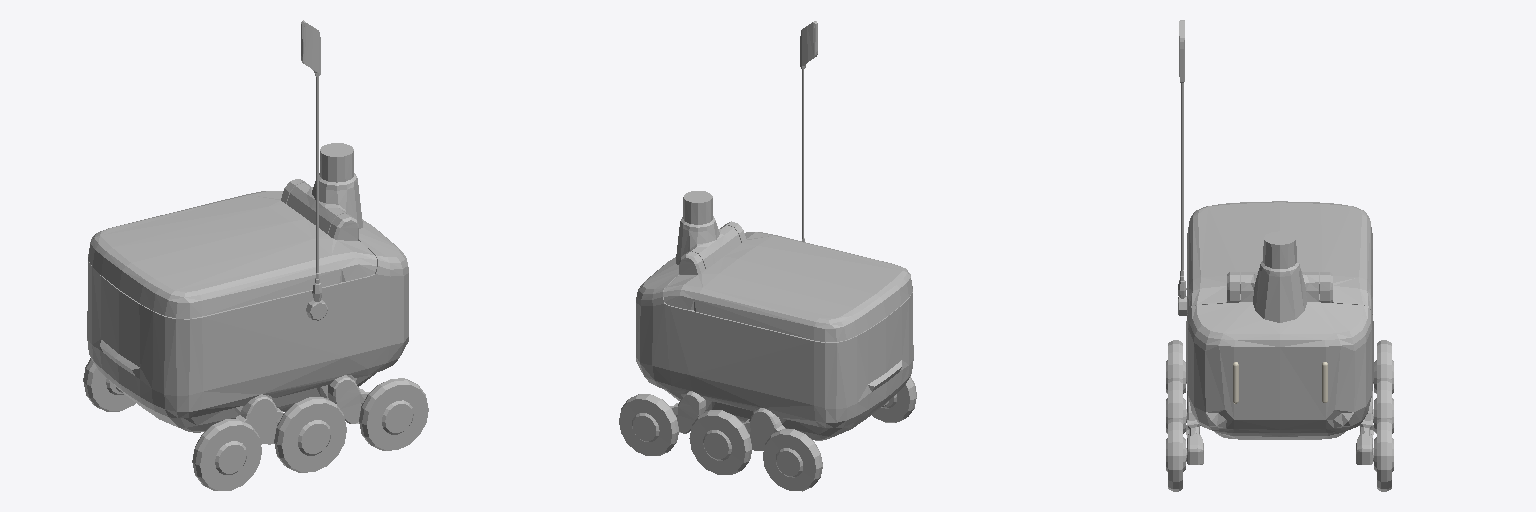
The robot description file, URDF, robot "yandex_rover":
<?xml version='1.0' encoding='utf-8'?>
<robot name="yandex_rover">
  <material name="neutral_fallback">
    <color rgba="0.75 0.75 0.75 1" />
  </material>
  <link name="base_link">
    <inertial>
      <origin xyz="-0.006326344 -0.002392415 0.0559519" rpy="0 0 0" />
      <mass value=".41" />
      <inertia ixx="0.0009546777" iyy="0.0014699204" izz="0.0013856149" ixy="0" ixz="0" iyz="0" />
    </inertial>
    <visual name="body_visual">
      <origin xyz="0 0 0" rpy="0 0 0" />
      <geometry>
        <mesh filename="meshes/body.obj" scale="1 1 1" />
      </geometry>
      <material name="neutral_fallback" />
    </visual>
    <visual name="interior_visual">
      <origin xyz="0 0 0" rpy="0 0 0" />
      <geometry>
        <mesh filename="meshes/interior.obj" scale="1 1 1" />
      </geometry>
      <material name="neutral_fallback" />
    </visual>
    <visual name="headlight_white_right_center">
      <origin xyz="0.0768940525092798 -0.025446381695348033 0.056890452944578944" rpy="0 0.016609985980125672 0.0070039801895009236" />
      <geometry>
        <cylinder radius=".0018" length="0.022847618706327667" />
      </geometry>
      <material name="headlight_milk" />
    </visual>
    <visual name="headlight_white_right_end0">
      <origin xyz="0.07670431657491844 -0.02544771062380413 0.0454682194219007" rpy="0 0 0" />
      <geometry>
        <sphere radius=".0018" />
      </geometry>
      <material name="headlight_milk" />
    </visual>
    <visual name="headlight_white_right_end1">
      <origin xyz="0.07708378844364118 -0.025445052766891935 0.06831268646725719" rpy="0 0 0" />
      <geometry>
        <sphere radius=".0018" />
      </geometry>
      <material name="headlight_milk" />
    </visual>
    <visual name="headlight_white_left_center">
      <origin xyz="0.07689631953634421 0.025893323399847845 0.057076308538218115" rpy="0 0.016609986379527993 -0.007006700595220675" />
      <geometry>
        <cylinder radius=".0018" length="0.022847651351705228" />
      </geometry>
      <material name="headlight_milk" />
    </visual>
    <visual name="headlight_white_left_end0">
      <origin xyz="0.0767065833299363 0.025894652846394174 0.04565405869517847" rpy="0 0 0" />
      <geometry>
        <sphere radius=".0018" />
      </geometry>
      <material name="headlight_milk" />
    </visual>
    <visual name="headlight_white_left_end1">
      <origin xyz="0.07708605574275212 0.025891993953301516 0.06849855838125776" rpy="0 0 0" />
      <geometry>
        <sphere radius=".0018" />
      </geometry>
      <material name="headlight_milk" />
    </visual>
    <collision name="body_collision">
      <origin xyz="-0.006326344 -0.002392415 0.0559519" rpy="0 0 0" />
      <geometry>
        <box size="0.166785568 0.112858996 0.123307064" />
      </geometry>
    </collision>
  </link>
  <material name="headlight_milk">
    <color rgba="0.88 0.86 0.80 1" />
  </material>
  <link name="left_front_wheel">
    <inertial>
      <origin xyz="0 0 0" rpy="0 0 0" />
      <mass value="0.015" />
      <inertia ixx="2.003658024752769e-06" iyy="3.34667532e-06" izz="2.003658024752769e-06" ixy="0" ixz="0" iyz="0" />
    </inertial>
    <visual name="left_front_visual">
      <origin xyz="0 0 0" rpy="0 0 0" />
      <geometry>
        <mesh filename="meshes/left_front.obj" scale="1.0 1 1.0" />
      </geometry>
      <material name="neutral_fallback" />
    </visual>
    <collision name="left_front_collision">
      <origin xyz="0 0 0" rpy="1.5707963267948966 0 0" />
      <geometry>
        <cylinder radius="0.021124" length="0.01625596173107624" />
      </geometry>
    </collision>
  </link>
  <joint name="left_front_joint" type="continuous">
    <parent link="base_link" />
    <child link="left_front_wheel" />
    <origin xyz="0.05293417 0.05767793 0.0" rpy="0 0 0" />
    <axis xyz="0 1 0" />
    <limit effort="0" velocity="25" />
    <dynamics damping="0.000002" friction="0" />
  </joint>
  <link name="left_middle_wheel">
    <inertial>
      <origin xyz="0 0 0" rpy="0 0 0" />
      <mass value="0.015" />
      <inertia ixx="2.165838024752769e-06" iyy="3.67103532e-06" izz="2.165838024752769e-06" ixy="0" ixz="0" iyz="0" />
    </inertial>
    <visual name="left_middle_visual">
      <origin xyz="0 0 0" rpy="0 0 0" />
      <geometry>
        <mesh filename="meshes/left_middle.obj" scale="1.0473395190304866 1 1.0473395190304866" />
      </geometry>
      <material name="neutral_fallback" />
    </visual>
    <collision name="left_middle_collision">
      <origin xyz="0 0 0" rpy="1.5707963267948966 0 0" />
      <geometry>
        <cylinder radius="0.022124" length="0.01625596173107624" />
      </geometry>
    </collision>
  </link>
  <joint name="left_middle_joint" type="continuous">
    <parent link="base_link" />
    <child link="left_middle_wheel" />
    <origin xyz="0.0 0.05767793 0.0" rpy="0 0 0" />
    <axis xyz="0 1 0" />
    <limit effort="0.03" velocity="25" />
    <dynamics damping="0.000002" friction="0" />
  </joint>
  <link name="left_rear_wheel">
    <inertial>
      <origin xyz="0 0 0" rpy="0 0 0" />
      <mass value="0.015" />
      <inertia ixx="2.003658024752769e-06" iyy="3.34667532e-06" izz="2.003658024752769e-06" ixy="0" ixz="0" iyz="0" />
    </inertial>
    <visual name="left_rear_visual">
      <origin xyz="0 0 0" rpy="0 0 0" />
      <geometry>
        <mesh filename="meshes/left_rear.obj" scale="1.0 1 1.0" />
      </geometry>
      <material name="neutral_fallback" />
    </visual>
    <collision name="left_rear_collision">
      <origin xyz="0 0 0" rpy="1.5707963267948966 0 0" />
      <geometry>
        <cylinder radius="0.021124" length="0.01625596173107624" />
      </geometry>
    </collision>
  </link>
  <joint name="left_rear_joint" type="continuous">
    <parent link="base_link" />
    <child link="left_rear_wheel" />
    <origin xyz="-0.052975506 0.05767793 0.0" rpy="0 0 0" />
    <axis xyz="0 1 0" />
    <limit effort="0" velocity="25" />
    <dynamics damping="0.000002" friction="0" />
  </joint>
  <link name="right_front_wheel">
    <inertial>
      <origin xyz="0 0 0" rpy="0 0 0" />
      <mass value="0.015" />
      <inertia ixx="2.003658024752769e-06" iyy="3.34667532e-06" izz="2.003658024752769e-06" ixy="0" ixz="0" iyz="0" />
    </inertial>
    <visual name="right_front_visual">
      <origin xyz="0 0 0" rpy="0 0 0" />
      <geometry>
        <mesh filename="meshes/right_front.obj" scale="1.0 1 1.0" />
      </geometry>
      <material name="neutral_fallback" />
    </visual>
    <collision name="right_front_collision">
      <origin xyz="0 0 0" rpy="1.5707963267948966 0 0" />
      <geometry>
        <cylinder radius="0.021124" length="0.01625596173107624" />
      </geometry>
    </collision>
  </link>
  <joint name="right_front_joint" type="continuous">
    <parent link="base_link" />
    <child link="right_front_wheel" />
    <origin xyz="0.05293417 -0.05767793 0.0" rpy="0 0 0" />
    <axis xyz="0 1 0" />
    <limit effort="0" velocity="25" />
    <dynamics damping="0.000002" friction="0" />
  </joint>
  <link name="right_middle_wheel">
    <inertial>
      <origin xyz="0 0 0" rpy="0 0 0" />
      <mass value="0.015" />
      <inertia ixx="2.165838024752769e-06" iyy="3.67103532e-06" izz="2.165838024752769e-06" ixy="0" ixz="0" iyz="0" />
    </inertial>
    <visual name="right_middle_visual">
      <origin xyz="0 0 0" rpy="0 0 0" />
      <geometry>
        <mesh filename="meshes/right_middle.obj" scale="1.0473395190304866 1 1.0473395190304866" />
      </geometry>
      <material name="neutral_fallback" />
    </visual>
    <collision name="right_middle_collision">
      <origin xyz="0 0 0" rpy="1.5707963267948966 0 0" />
      <geometry>
        <cylinder radius="0.022124" length="0.01625596173107624" />
      </geometry>
    </collision>
  </link>
  <joint name="right_middle_joint" type="continuous">
    <parent link="base_link" />
    <child link="right_middle_wheel" />
    <origin xyz="0.0 -0.05767793 0.0" rpy="0 0 0" />
    <axis xyz="0 1 0" />
    <limit effort="0.03" velocity="25" />
    <dynamics damping="0.000002" friction="0" />
  </joint>
  <link name="right_rear_wheel">
    <inertial>
      <origin xyz="0 0 0" rpy="0 0 0" />
      <mass value="0.015" />
      <inertia ixx="2.003658024752769e-06" iyy="3.34667532e-06" izz="2.003658024752769e-06" ixy="0" ixz="0" iyz="0" />
    </inertial>
    <visual name="right_rear_visual">
      <origin xyz="0 0 0" rpy="0 0 0" />
      <geometry>
        <mesh filename="meshes/right_rear.obj" scale="1.0 1 1.0" />
      </geometry>
      <material name="neutral_fallback" />
    </visual>
    <collision name="right_rear_collision">
      <origin xyz="0 0 0" rpy="1.5707963267948966 0 0" />
      <geometry>
        <cylinder radius="0.021124" length="0.01625596173107624" />
      </geometry>
    </collision>
  </link>
  <joint name="right_rear_joint" type="continuous">
    <parent link="base_link" />
    <child link="right_rear_wheel" />
    <origin xyz="-0.052975506 -0.05767793 0.0" rpy="0 0 0" />
    <axis xyz="0 1 0" />
    <limit effort="0" velocity="25" />
    <dynamics damping="0.000002" friction="0" />
  </joint>
  <link name="base_footprint" />
  <joint name="footprint_to_base" type="fixed">
    <parent link="base_footprint" />
    <child link="base_link" />
    <origin xyz="0 0 0.022124" />
  </joint>
  <link name="laser" />
  <joint name="laser_fixed" type="fixed">
    <parent link="base_link" />
    <child link="laser" />
    <origin xyz="0.035 0 0.14" />
  </joint>
  <link name="camera_link" />
  <joint name="camera_link_fixed" type="fixed">
    <parent link="base_link" />
    <child link="camera_link" />
    <origin xyz="0.082 0 0.082" />
  </joint>
  <link name="imu_link" />
  <joint name="imu_link_fixed" type="fixed">
    <parent link="base_link" />
    <child link="imu_link" />
    <origin xyz="0 0 0.04" />
  </joint>
  <link name="camera_optical" />
  <joint name="camera_optical_fixed" type="fixed">
    <parent link="camera_link" />
    <child link="camera_optical" />
    <origin rpy="-1.57079632679 0 -1.57079632679" />
  </joint>
  <link name="overview_optical" />
  <joint name="overview_optical_fixed" type="fixed">
    <parent link="overview_camera_link" />
    <child link="overview_optical" />
    <origin rpy="-1.57079632679 0 -1.57079632679" />
  </joint>
  <link name="overview_camera_link" />
  <joint name="overview_camera_fixed" type="fixed">
    <parent link="base_link" />
    <child link="overview_camera_link" />
    <origin xyz=".36 -.45 .30" rpy="0 .30 2.246" />
  </joint>
</robot>

--- What the picture shows (computed from the rendered views, not written in the file) ---
The picture shows the robot from 3 angles, left to right: view 1: azimuth 30°, elevation 25°; view 2: azimuth 150°, elevation 25°; view 3: azimuth 270°, elevation 25°; orthographic projection.
Robot: yandex_rover — 14 links, 13 joints (6 continuous, 7 fixed); root link base_footprint; default pose: every joint at zero.
Links seen in each view (by area): view 1: base_link, right_middle_wheel, right_front_wheel, right_rear_wheel, left_rear_wheel; view 2: base_link, left_middle_wheel, left_rear_wheel, left_front_wheel, right_rear_wheel; view 3: base_link, left_front_wheel, right_front_wheel, left_middle_wheel, right_middle_wheel, left_rear_wheel, right_rear_wheel.
Boxes of the visible links, left/top/right/bottom form: base_link: left=87, top=20, right=408, bottom=444; right_middle_wheel: left=274, top=397, right=346, bottom=472; right_front_wheel: left=359, top=378, right=428, bottom=450; right_rear_wheel: left=192, top=419, right=261, bottom=490; left_rear_wheel: left=83, top=358, right=135, bottom=411; base_link: left=636, top=21, right=913, bottom=450; left_middle_wheel: left=689, top=410, right=751, bottom=474; left_rear_wheel: left=763, top=429, right=822, bottom=491; left_front_wheel: left=619, top=394, right=678, bottom=455; right_rear_wheel: left=872, top=376, right=916, bottom=422; base_link: left=1178, top=20, right=1373, bottom=464; left_front_wheel: left=1373, top=418, right=1393, bottom=491; right_front_wheel: left=1166, top=418, right=1186, bottom=491; left_middle_wheel: left=1373, top=378, right=1393, bottom=433; right_middle_wheel: left=1166, top=378, right=1186, bottom=433; left_rear_wheel: left=1373, top=340, right=1393, bottom=393; right_rear_wheel: left=1166, top=340, right=1186, bottom=393.
Bounding box of the posed robot: 0.1686 × 0.1316 × 0.272 m (x, y, z).
Meshes: 8 distinct files referenced, 8 mesh visuals loaded (8 OBJ).
